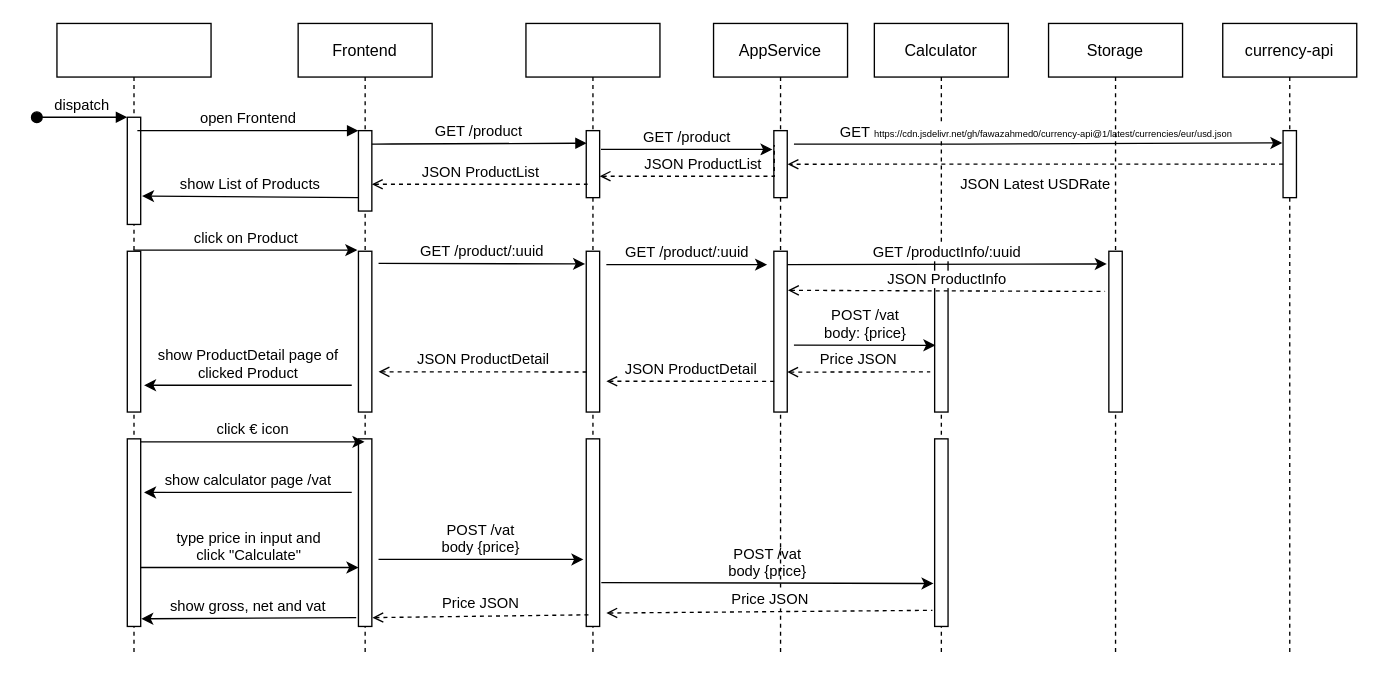
Image size: 1380x677. Some labels were removed from this diagram. The shapes that lost their labels are listed below. From the top down, each one's box as (x1, y1, x2, y2) in pixels, then its label:
(56, 22, 211, 653): Actor
(525, 22, 660, 653): Gateway
